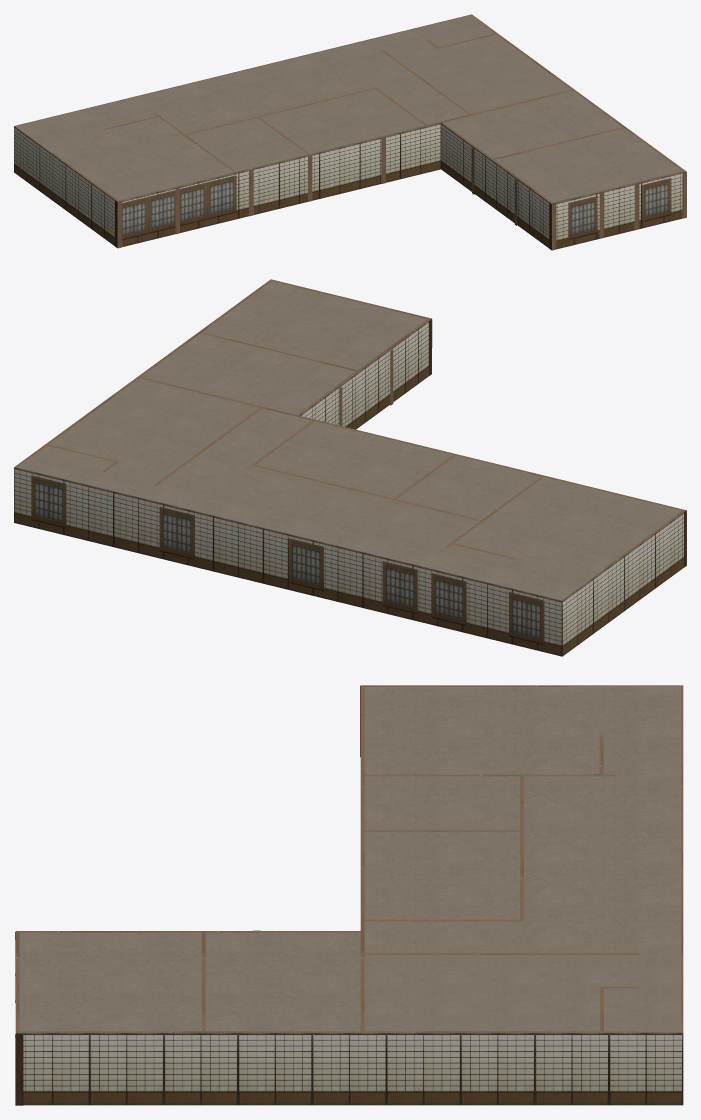
File: rixi_2f.FBX
3 renders of one model, top to bottom at view 1: azimuth 30°, elevation 25°; view 2: azimuth 150°, elevation 25°; view 3: azimuth 270°, elevation 25°, orthographic. The views are drawn at different scales.
Parts seen in each view (by area): view 1: DrawCall_1762, DrawCall_1497, Group012, Rectangle002; view 2: DrawCall_1762, DrawCall_1497, Rectangle006, Group012; view 3: DrawCall_1762, DrawCall_1497, Group012.
Part boxes in pixels (x1,y1,x2,y2): DrawCall_1762: (16, 15, 682, 202); DrawCall_1497: (14, 14, 686, 249); Group012: (115, 29, 686, 250); Rectangle002: (122, 175, 236, 240); DrawCall_1762: (16, 281, 681, 599); DrawCall_1497: (14, 279, 686, 656); Rectangle006: (31, 475, 544, 644); Group012: (339, 319, 686, 567); DrawCall_1762: (19, 686, 681, 1031); DrawCall_1497: (15, 685, 683, 1105); Group012: (15, 685, 599, 1105).
Bounding box in the file's own units: 3205 × 310 × 2617.
